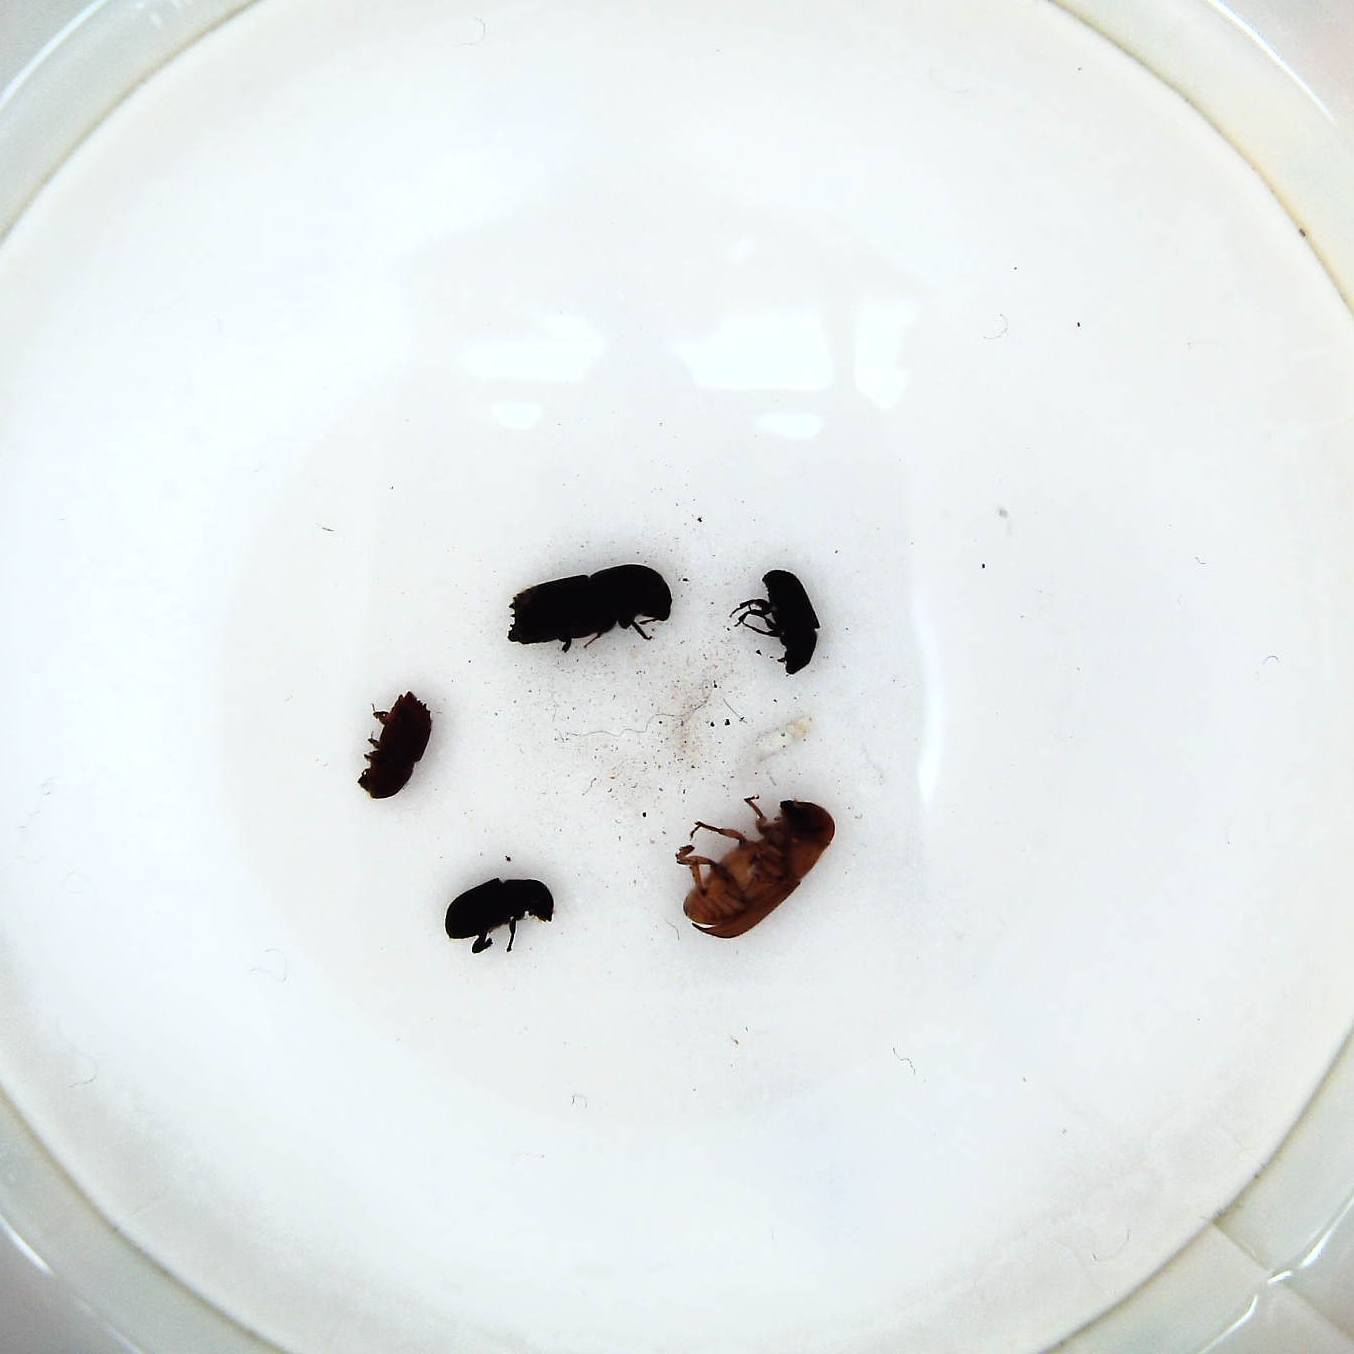Boerner: (503, 562, 676, 653)
Leconte: (676, 791, 842, 940)
armandi: (445, 874, 559, 957)
coleoptera: (730, 569, 820, 679)
linnaeus: (360, 691, 435, 805)
